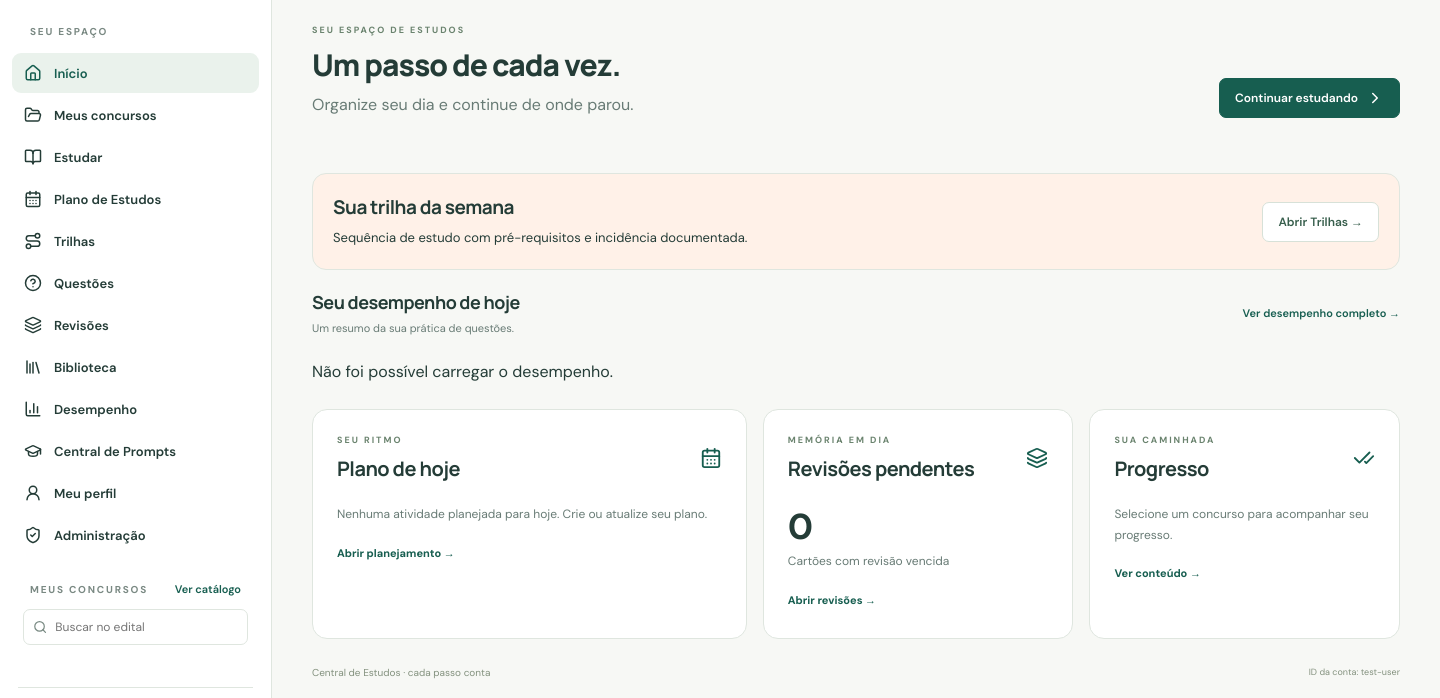
Test case: autoriza cadastro e pede confirmação antes de revogar uma autorização
(page scrolled)
Click the button "Administração".
click(136, 535)  # box 12,515 -> 259,555
(page scrolled)
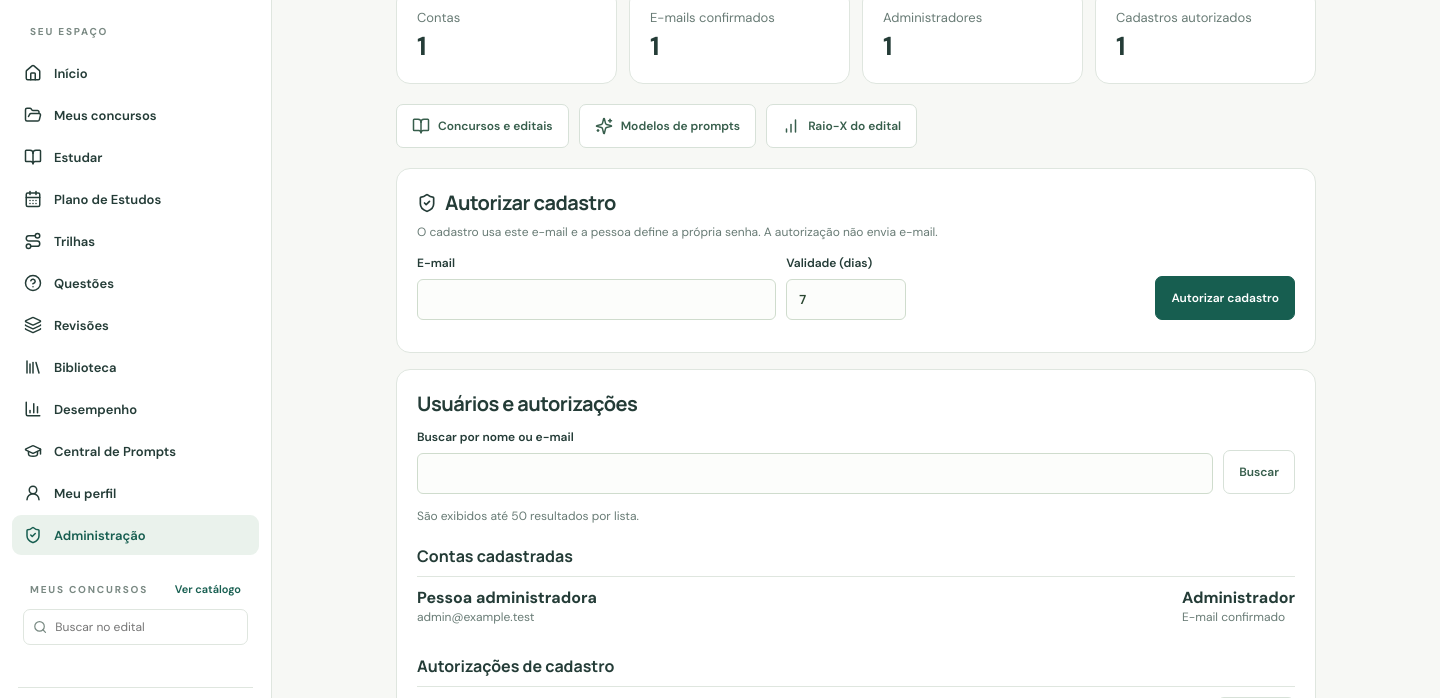
Type "next@example.test" into the field labelled "E-mail".
click(597, 299); type("next@example.test")  # box 417,279 -> 776,320
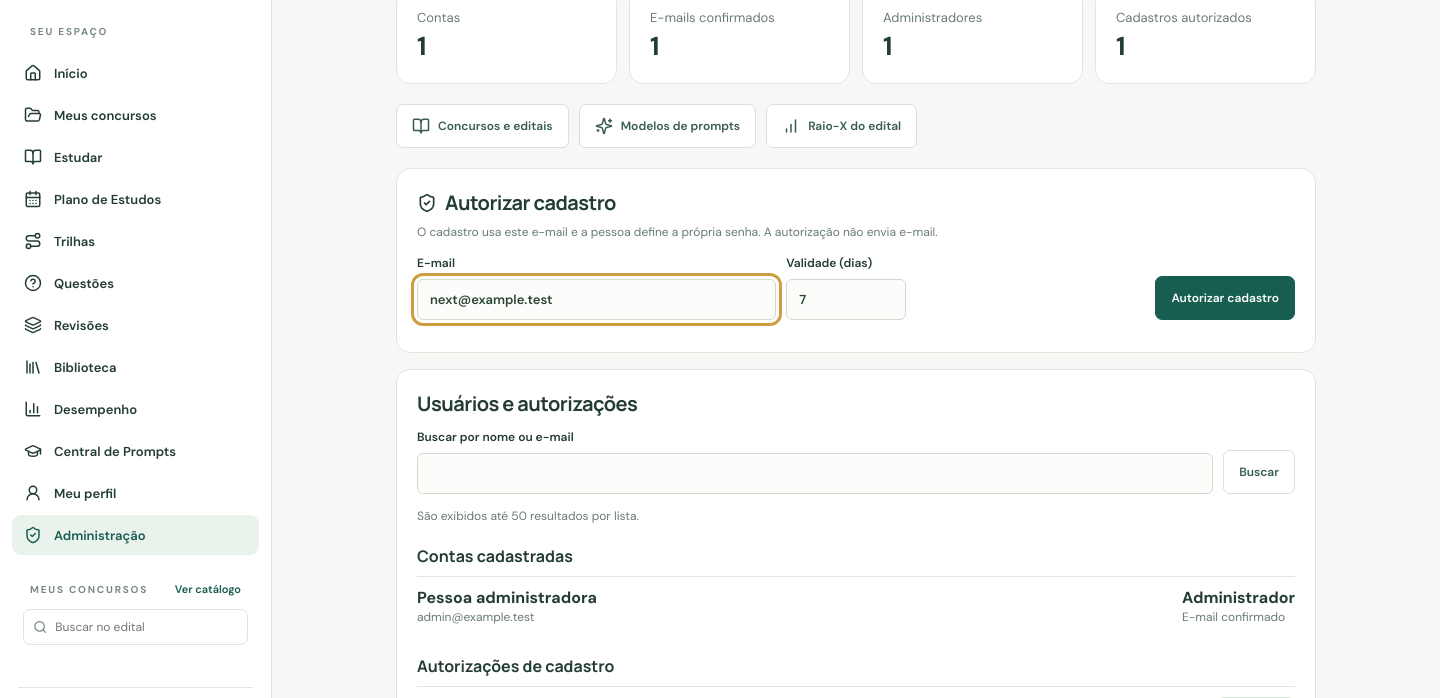
Click the button "Autorizar cadastro".
click(1225, 298)  # box 1155,276 -> 1295,320
(page scrolled)
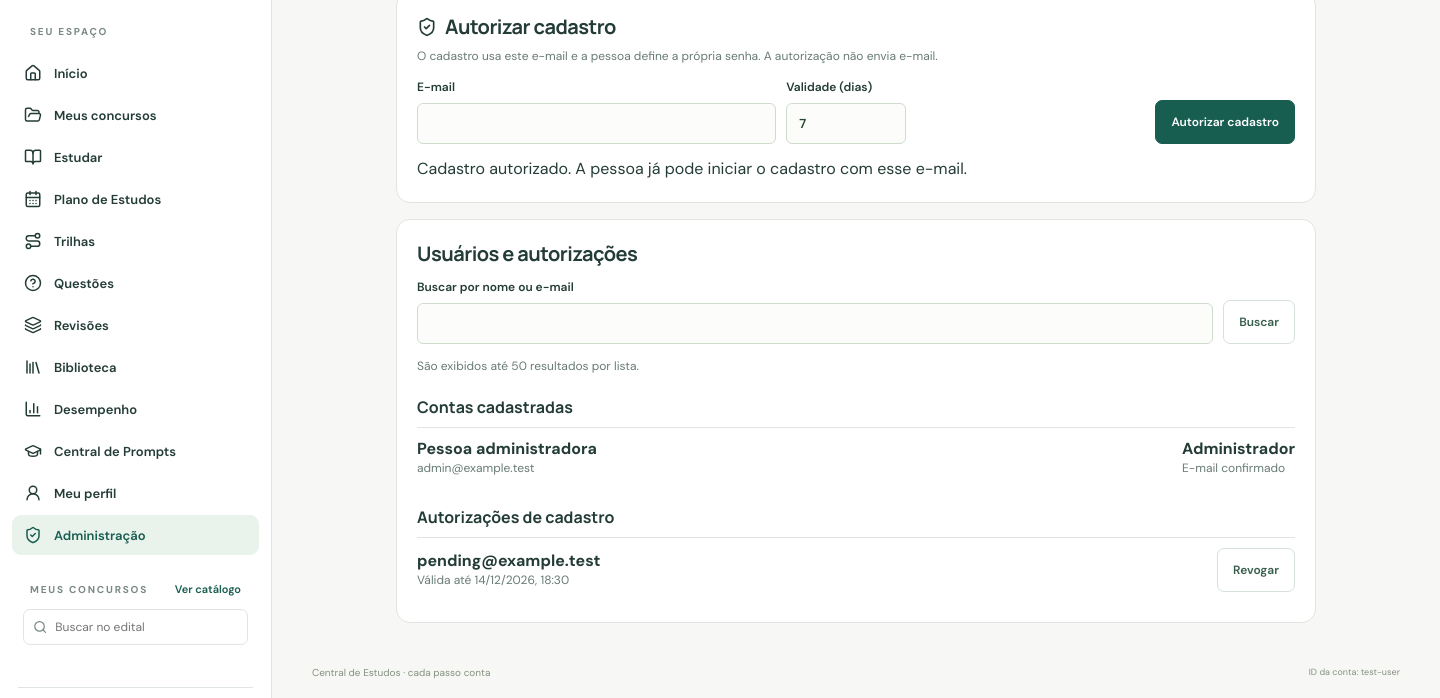
Result: the text "Cadastro autorizado. A pessoa já pode iniciar o cadastro com esse e-mail." is shown at 417,158 -> 967,179
Click the button "Revogar".
click(1256, 570)  # box 1217,548 -> 1295,592
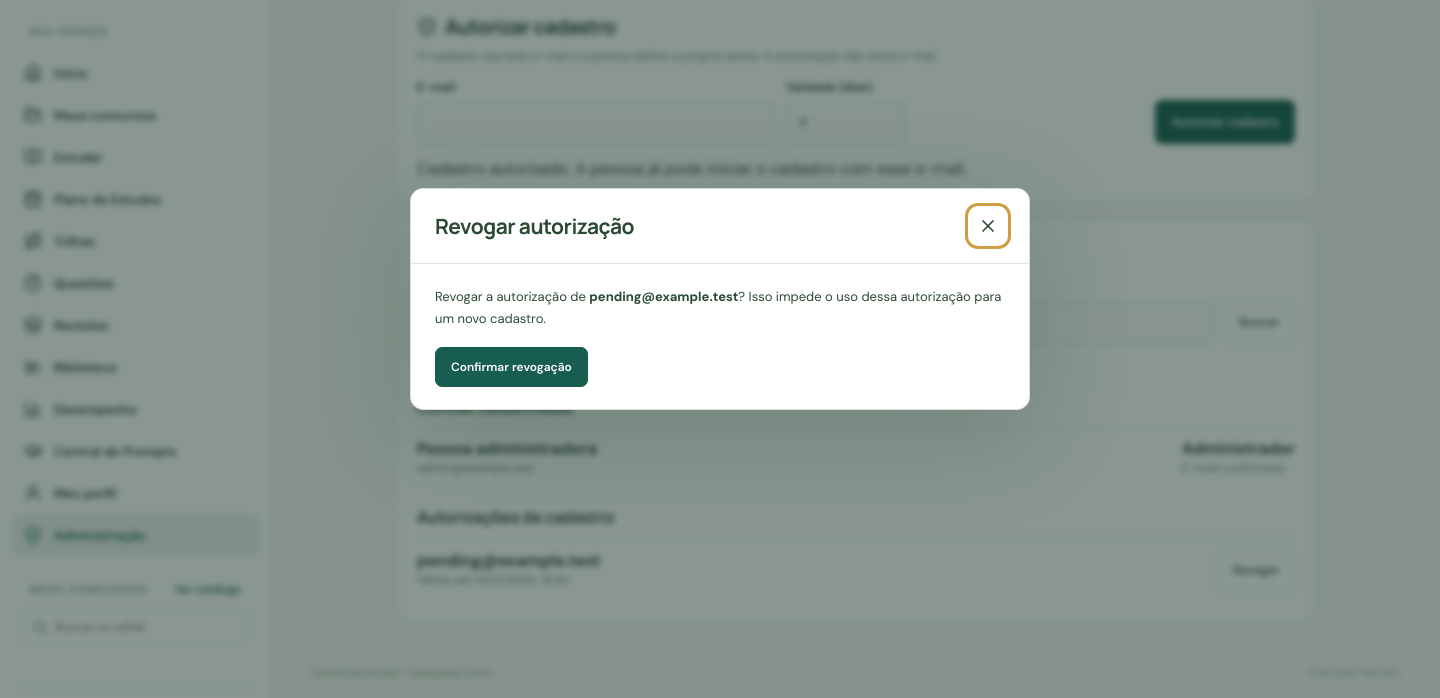
Click the button "Confirmar revogação".
click(511, 367)  # box 435,347 -> 588,387
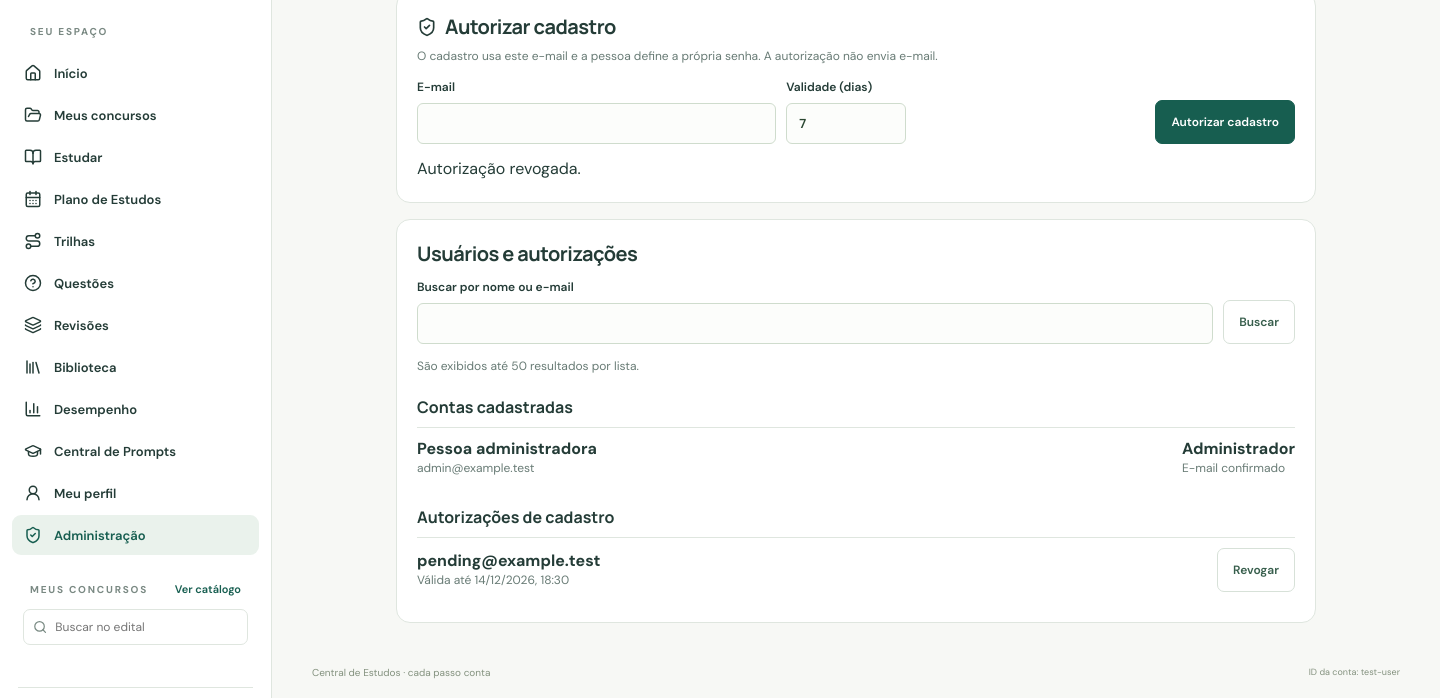
Result: the text "Autorização revogada." is shown at 417,158 -> 581,179
